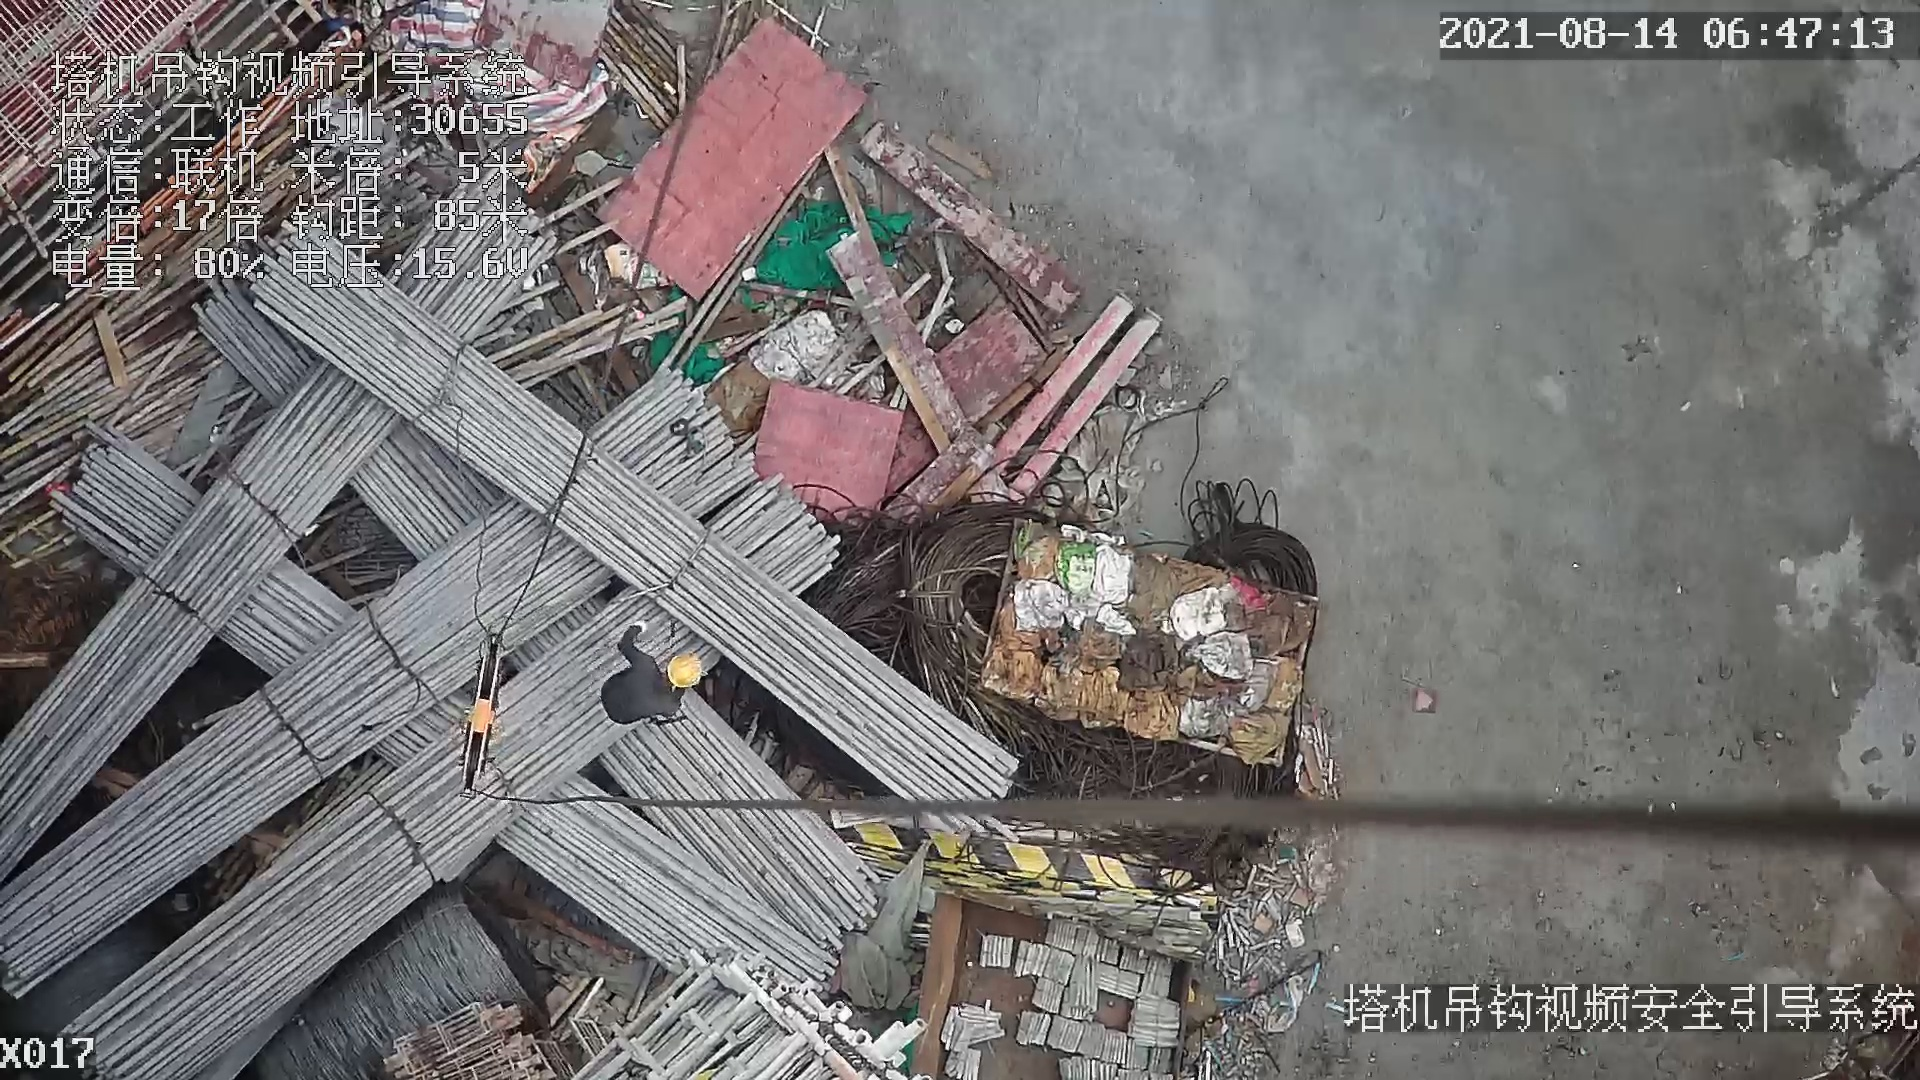board: (591, 15, 864, 323)
helmet: (664, 646, 707, 690)
hook: (455, 631, 512, 813)
person: (595, 617, 699, 733)
